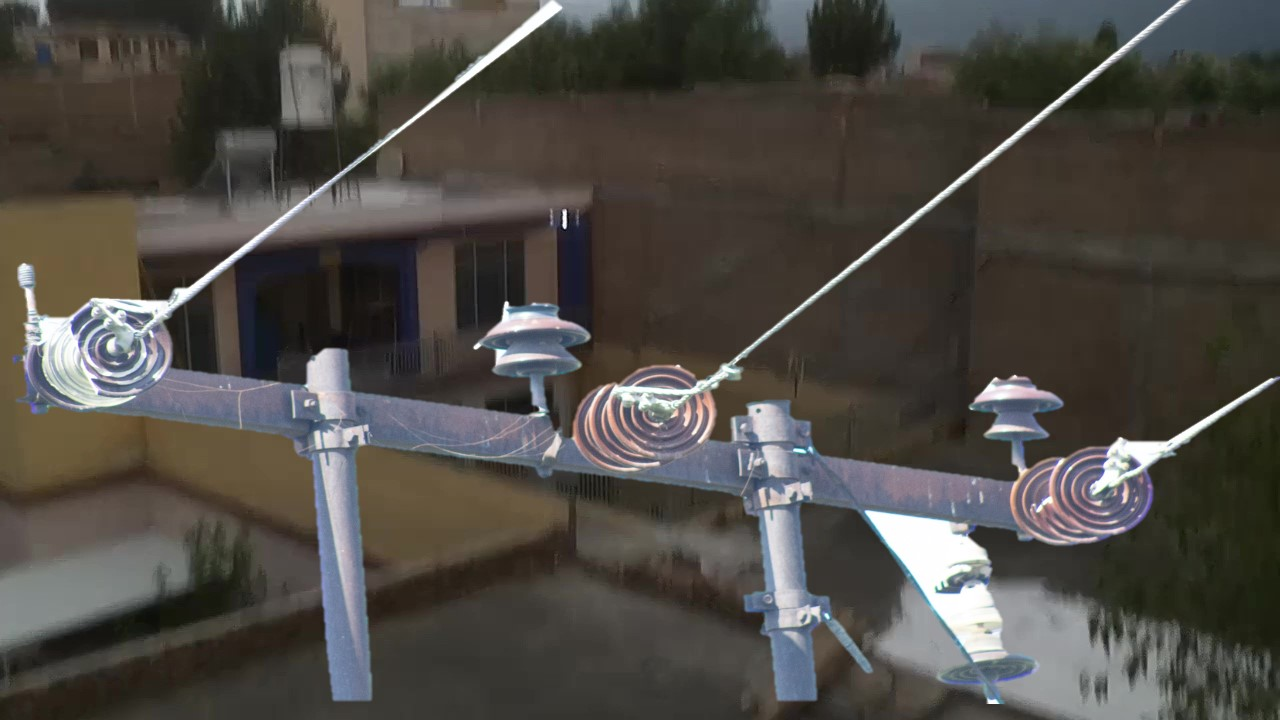defect_disc: (68, 292, 178, 403)
insulator_disc: (606, 354, 721, 459), (1045, 438, 1159, 543)
